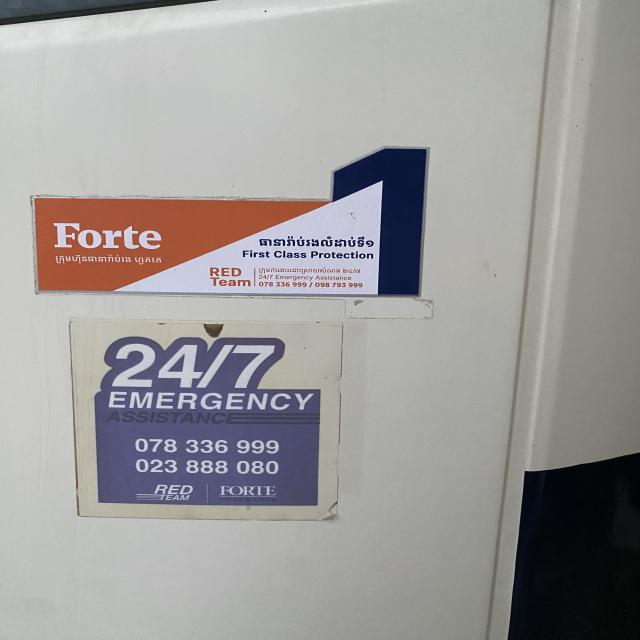1: (51, 251, 168, 267), (255, 264, 364, 276)
Yolov11kh: (256, 232, 377, 249)
